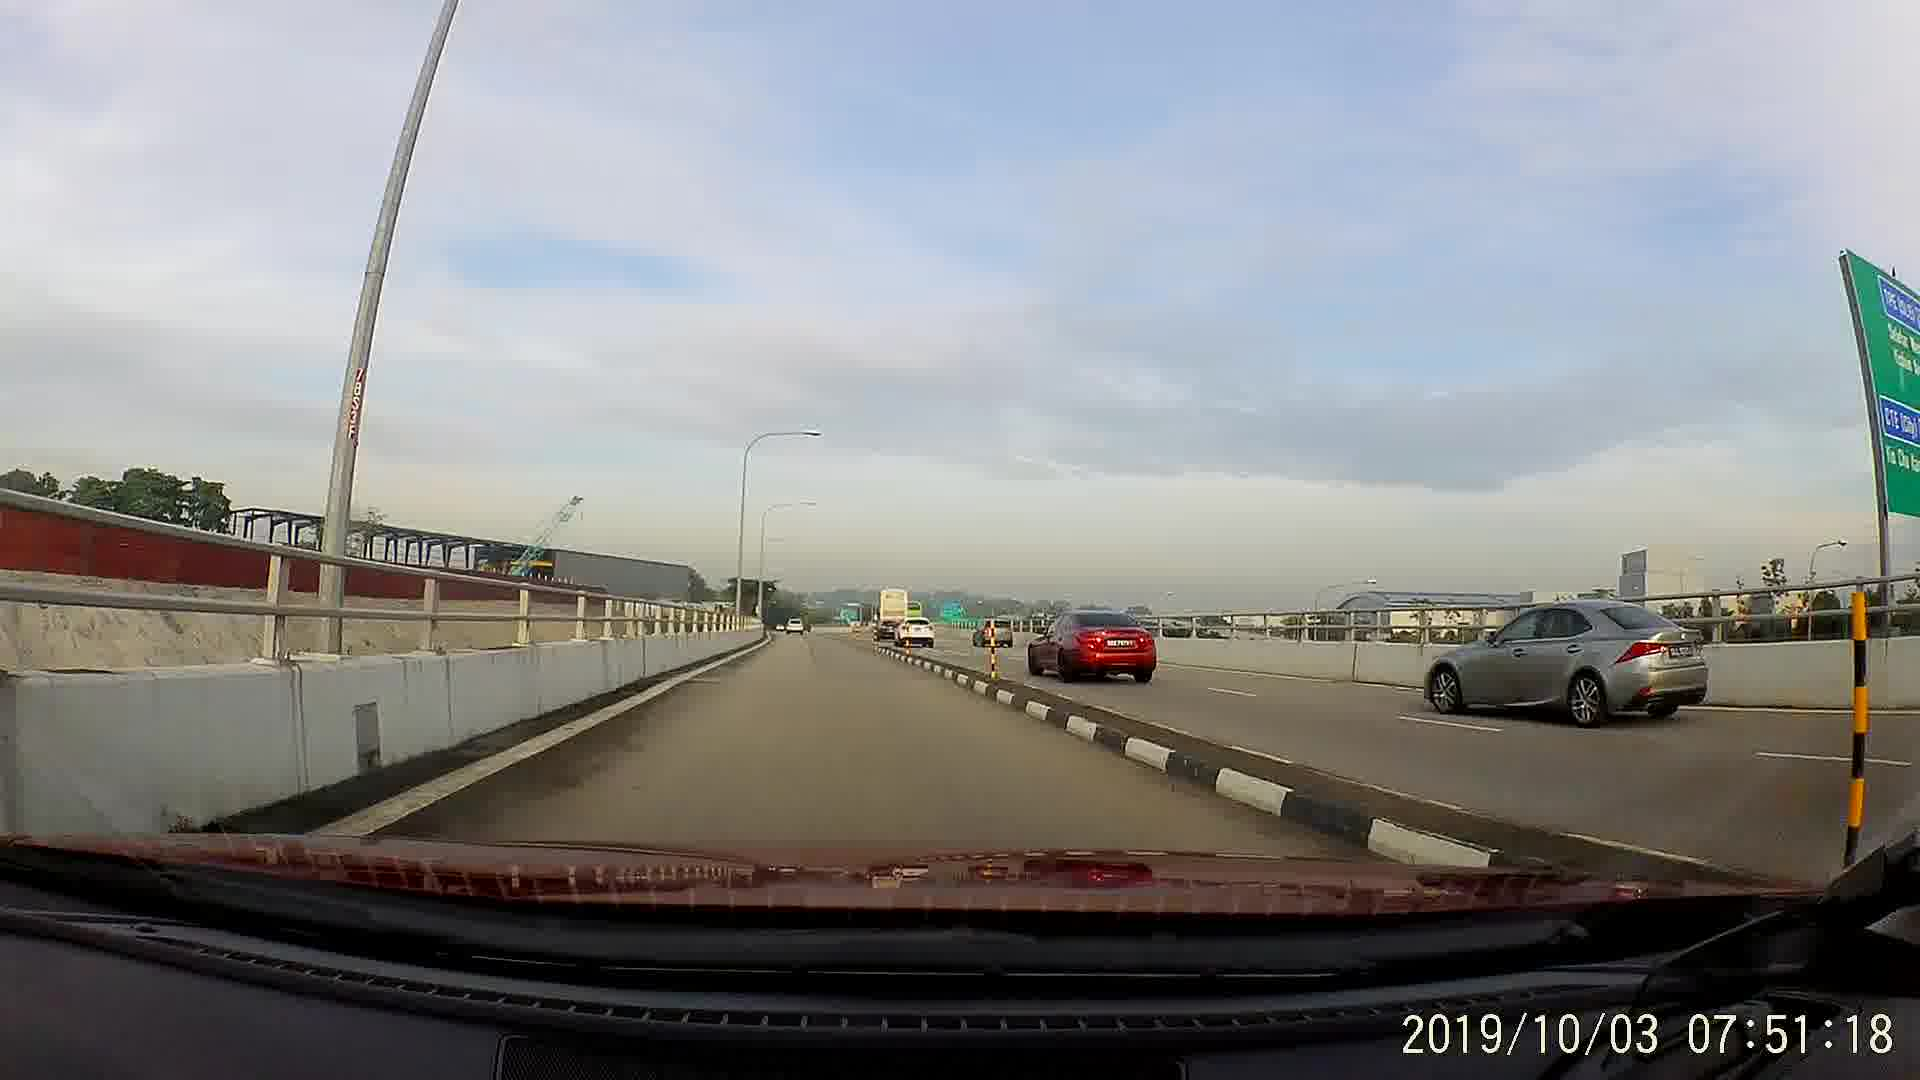bus: (876, 580, 905, 636)
car: (1422, 593, 1710, 729), (1025, 608, 1156, 687), (971, 612, 1015, 649), (890, 616, 928, 647), (785, 613, 804, 636)
